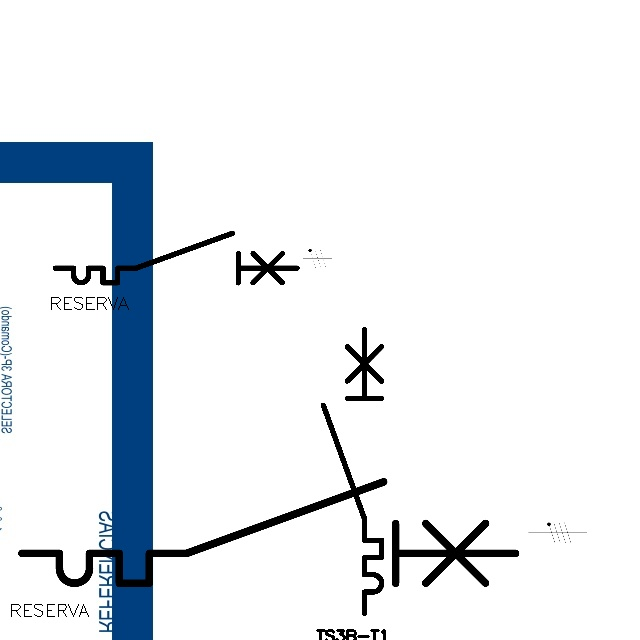interruptor_termomagnetico: (9, 469, 528, 596), (316, 322, 389, 621), (49, 227, 303, 289)
